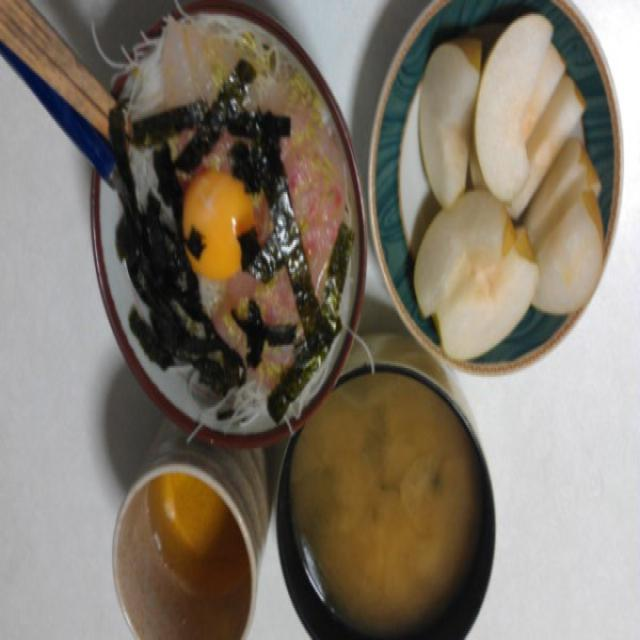刺身生食: (83, 0, 370, 443)
汤锅炖物: (275, 346, 493, 640)
